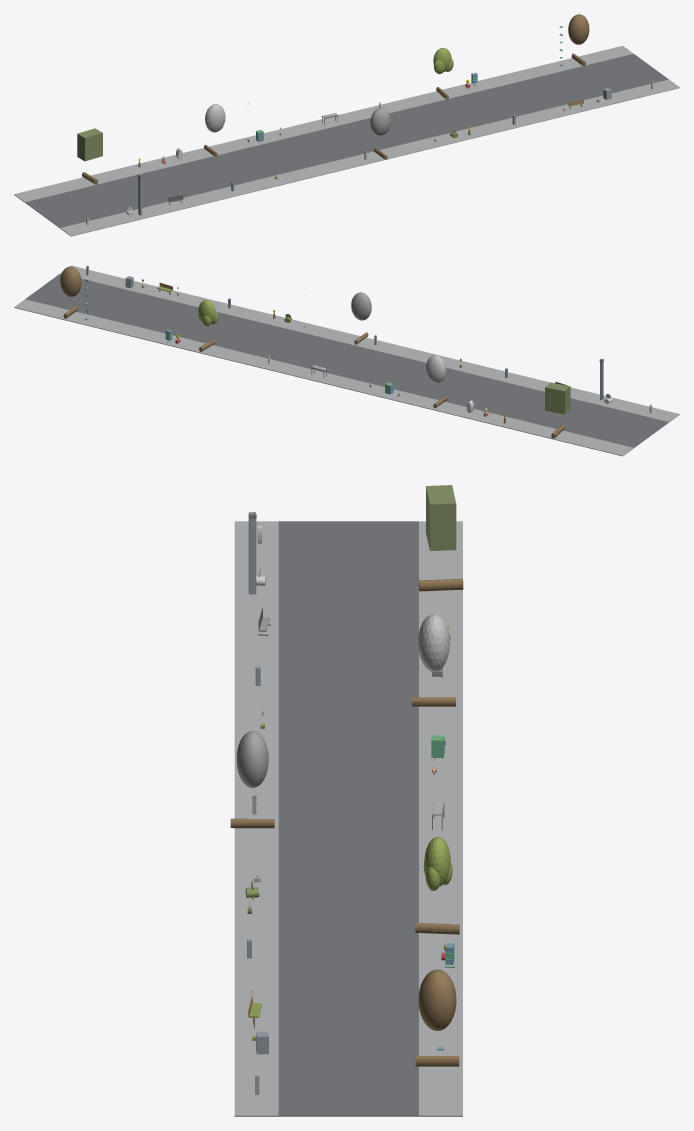
The picture shows the model from 3 angles, top to bottom: view 1: azimuth 30°, elevation 25°; view 2: azimuth 150°, elevation 25°; view 3: azimuth 270°, elevation 25°; orthographic projection. The views are drawn at different scales.
Visible parts, largest first — view 1: road_slab, sidewalk_left, sidewalk_right, inst_0012, inst_0016, inst_0013, inst_0014, inst_0015; view 2: road_slab, sidewalk_right, sidewalk_left, inst_0012, inst_0016, inst_0014, inst_0013, inst_0015; view 3: road_slab, sidewalk_left, sidewalk_right, inst_0012, inst_0016, inst_0014, inst_0013, inst_0015.
Part boxes in pixels (x1,y1,x2,y2): road_slab: (25,53,668,227); sidewalk_left: (60,79,679,236); sidewalk_right: (14,45,633,202); inst_0012: (77,128,102,184); inst_0016: (568,14,589,66); inst_0013: (204,104,225,157); inst_0014: (370,108,390,159); inst_0015: (433,47,453,99); road_slab: (25,273,668,447); sidewalk_right: (14,299,633,456); sidewalk_left: (60,265,679,422); inst_0012: (545,382,570,438); inst_0016: (60,266,81,318); inst_0014: (351,292,371,344); inst_0013: (426,355,447,408); inst_0015: (198,300,217,351); road_slab: (278,521,418,1116); sidewalk_left: (234,521,278,1116); sidewalk_right: (419,521,462,1116); inst_0012: (418,485,463,591); inst_0016: (415,969,459,1066); inst_0014: (230,731,274,828); inst_0013: (412,614,455,706); inst_0015: (415,836,459,934).
Bounding box in the file's own units: 80 × 6.08 × 13.24.
